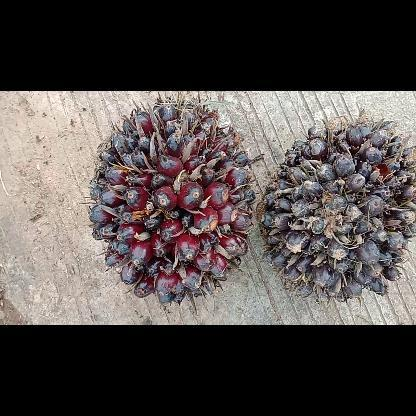TBS mentah: (86, 99, 256, 307), (258, 118, 414, 300)
